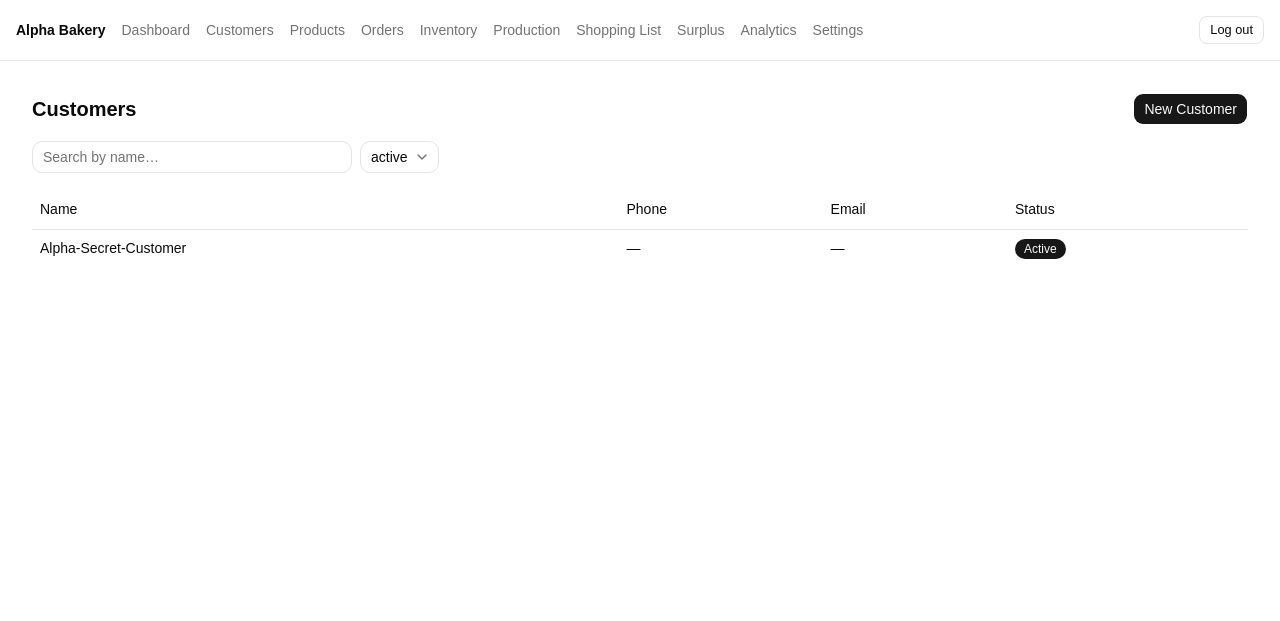
it: tenant data never crosses a principal boundary › does not loop or resurrect the authenticated user after logout
The image size is (1280, 621).
Expected: the link "Alpha-Secret-Customer" is shown, [40, 240, 186, 256]
Click the button "Log out".
click(1232, 30)  # box [1199, 16, 1264, 44]
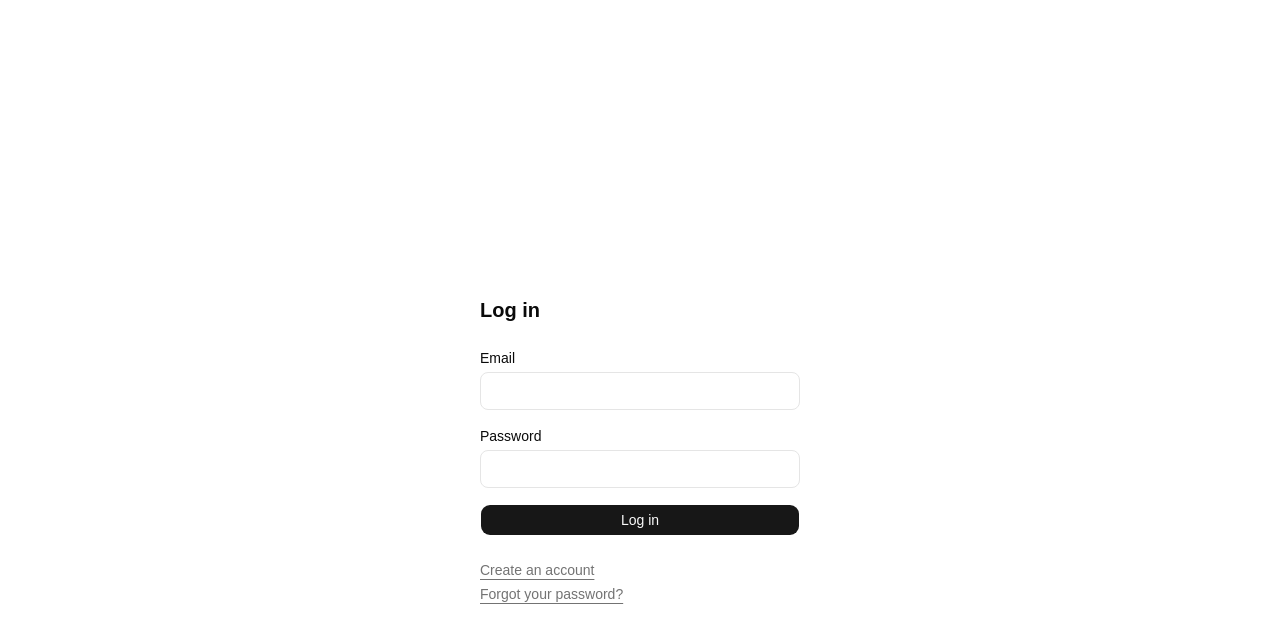
Expected: the heading "Log in" is shown, [480, 299, 540, 321]
